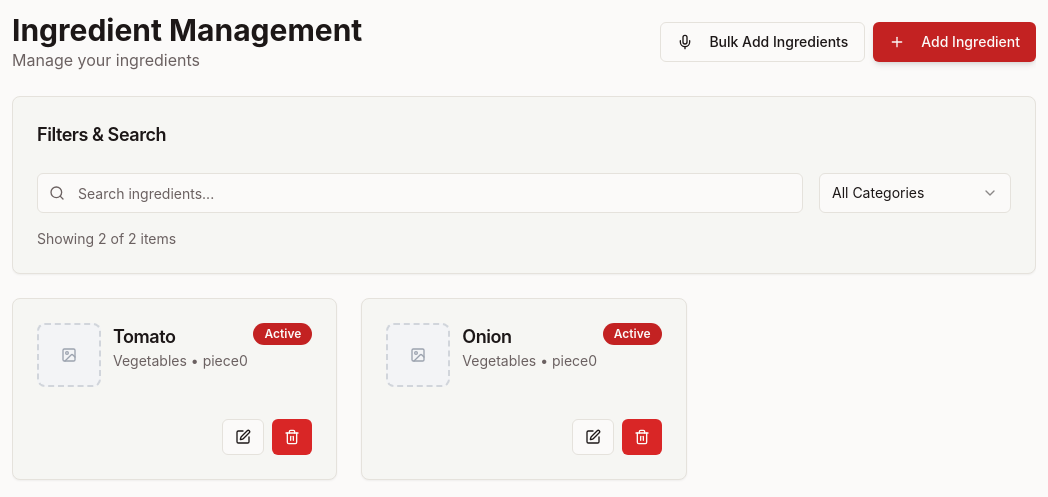
Scenario: IngredientManagement › should filter ingredients by search term
Expected: the heading "Tomato" is shown, [113,326,175,347]
Expected: the heading "Onion" is shown, [462,326,512,347]
Type "tomato" into the field with placeholder "Search ingredients..." at (420, 193), box [37,173,803,213]
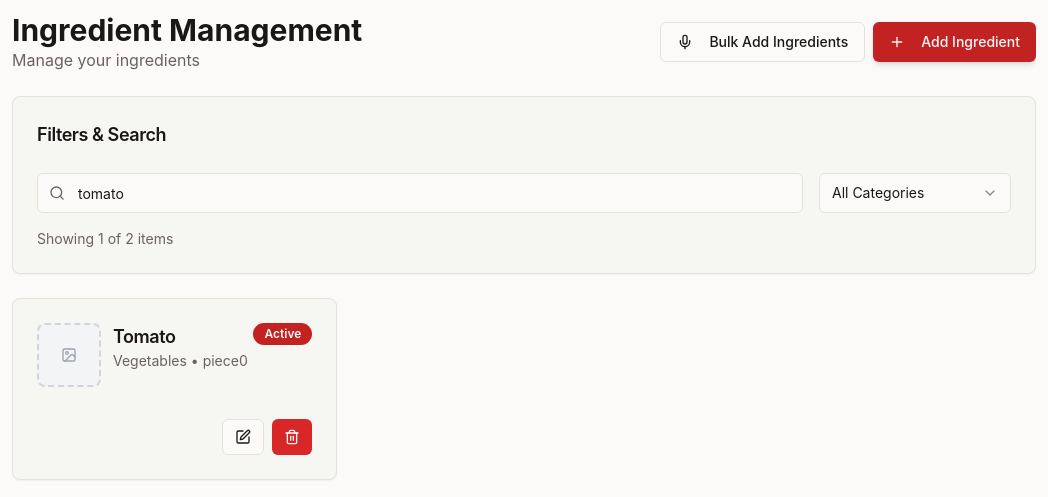
Expected: the heading "Tomato" is shown, [113,326,175,347]
Expected: the heading "Onion" is gone
